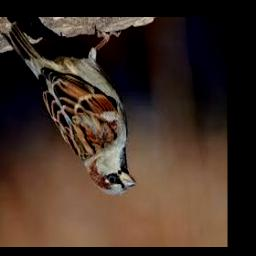Sparrow: (9, 21, 135, 196)
